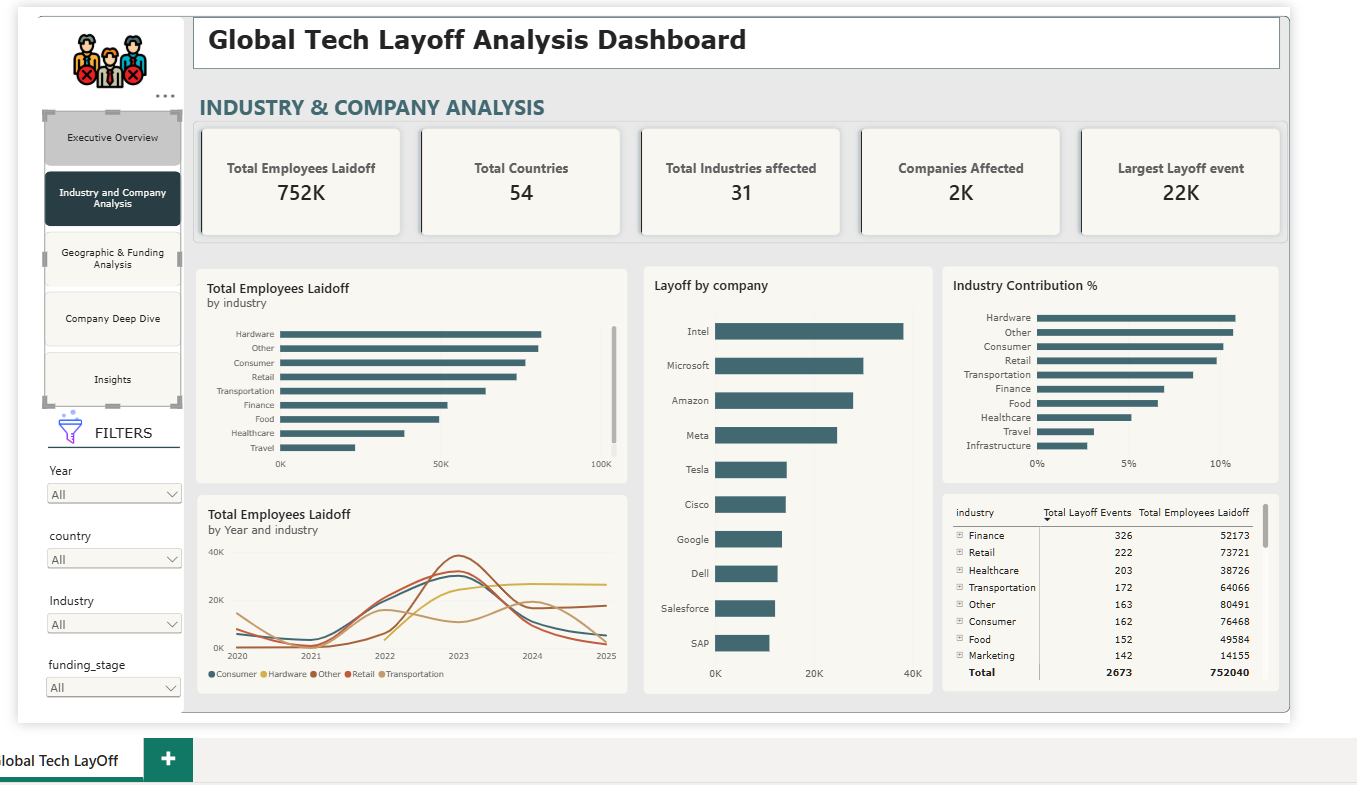

Layout of this report page (visuals, bound fields, positions):
{"tool":"powerbi","page":{"name":"Global Tech LayOff","canvas":[1920,1080],"ordinal":0},"visuals":[{"type":"shape","box":[29,12.7,1892,1052],"z":0},{"type":"shape","box":[27.1,14.5,224.4,1051.4],"z":1000},{"type":"slicer","fields":{"Values":["Date.Year"]},"box":[38.7,687.3,212.9,80.6],"z":3000},{"type":"slicer","fields":{"Values":["layoffs_events.country"]},"box":[38.7,785.6,212.9,80.6],"z":4000},{"type":"slicer","fields":{"Values":["layoffs_events.industry"]},"box":[38.7,883.9,212.9,77.4],"z":5000},{"type":"slicer","fields":{"Values":["layoffs_events.funding_stage"]},"box":[38,979,212.9,87.1],"z":6000},{"type":"textbox","box":[38,613.5,213.5,52.5],"z":7000},{"type":"image","box":[29,602.6,101.3,63.3],"z":8000},{"type":"shape","box":[45.2,613.5,199.1,103.2],"z":9000},{"type":"shape","box":[264.9,14.6,1640.8,78.6],"z":11000},{"type":"textbox","box":[285.9,27.1,843.3,72.4],"z":12000},{"type":"image","box":[72.4,27.1,133.9,110.4],"z":17000},{"type":"textbox","box":[285,165.1,807.9,870.8],"z":40000},{"type":"textbox","box":[1158.5,98.1,760.4,909.4],"z":41000},{"type":"bookmarkNavigator","box":[40,156,207.5,447.5],"z":41001},{"type":"shape","box":[1084,164.7,74.2,843.3],"z":41002}]}

Visuals, with their boxes on the page's 1920x1080 design canvas (x1, y1, x2, y2). These are canvas units, not pixel positions in the 1357x785 screenshot, which may show the page scaled, cropped or inside an application window:
shape: box(29, 13, 1921, 1065)
shape: box(27, 14, 252, 1066)
slicer - Date.Year: box(39, 687, 252, 768)
slicer - layoffs_events.country: box(39, 786, 252, 866)
slicer - layoffs_events.industry: box(39, 884, 252, 961)
slicer - layoffs_events.funding_stage: box(38, 979, 251, 1066)
textbox: box(38, 614, 252, 666)
image: box(29, 603, 130, 666)
shape: box(45, 614, 244, 717)
shape: box(265, 15, 1906, 93)
textbox: box(286, 27, 1129, 100)
image: box(72, 27, 206, 138)
textbox: box(285, 165, 1093, 1036)
textbox: box(1158, 98, 1919, 1008)
bookmarkNavigator: box(40, 156, 248, 604)
shape: box(1084, 165, 1158, 1008)
